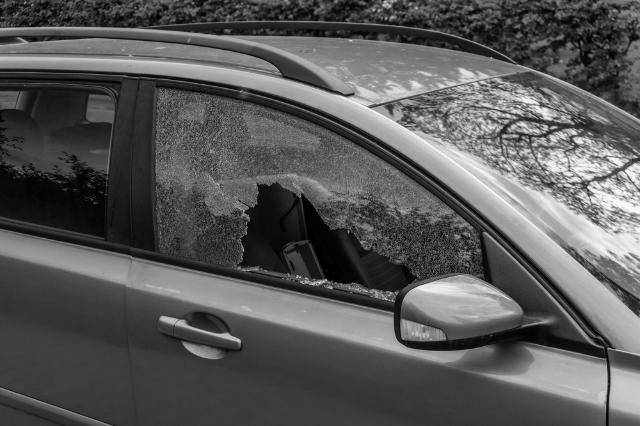Door: (156, 110, 395, 426)
